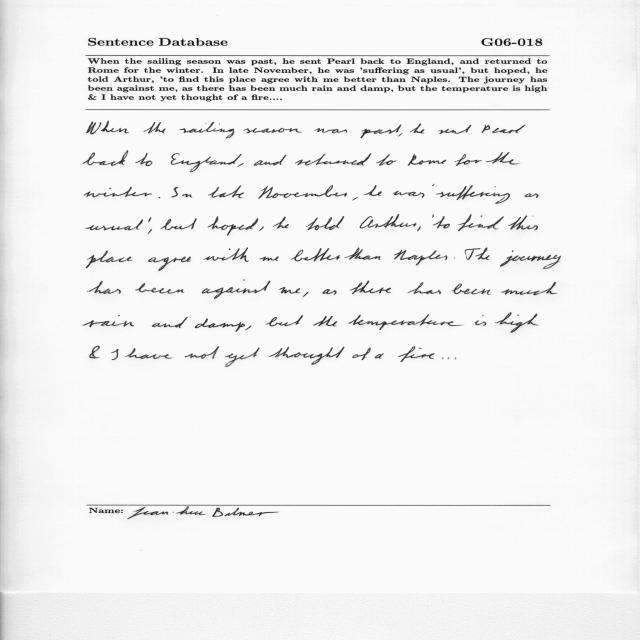word: (348, 314, 463, 330), (436, 185, 510, 204), (268, 347, 345, 365), (171, 153, 242, 172), (202, 280, 271, 299), (258, 185, 347, 199), (500, 250, 561, 269), (208, 216, 259, 236), (179, 122, 235, 139), (295, 153, 371, 165), (495, 313, 539, 333), (86, 251, 133, 268), (360, 215, 417, 229), (394, 250, 447, 265), (458, 215, 504, 231), (502, 282, 558, 295), (195, 318, 245, 332), (225, 347, 260, 367), (84, 187, 152, 197), (83, 151, 128, 166), (148, 256, 191, 271), (203, 248, 249, 262), (291, 248, 340, 261), (86, 220, 143, 231), (83, 315, 134, 327), (398, 346, 434, 362), (361, 125, 402, 139), (135, 283, 185, 294), (87, 121, 129, 134), (350, 281, 392, 294), (306, 216, 344, 230), (125, 348, 173, 359), (208, 185, 244, 198), (408, 154, 446, 166), (452, 283, 490, 295), (508, 216, 538, 231), (160, 218, 197, 230), (87, 281, 121, 294), (185, 346, 219, 359), (345, 248, 380, 260), (486, 152, 520, 164), (407, 282, 441, 294), (266, 315, 303, 326), (152, 317, 188, 328), (254, 155, 287, 166), (482, 125, 526, 133), (454, 154, 482, 166), (438, 125, 472, 134), (465, 248, 490, 260), (244, 128, 303, 133), (313, 316, 337, 327), (376, 154, 397, 166), (144, 122, 166, 133), (171, 187, 193, 198), (135, 153, 153, 166), (352, 348, 371, 360), (393, 191, 425, 198), (363, 185, 382, 196), (433, 216, 450, 228), (273, 217, 289, 229), (314, 128, 347, 133), (278, 287, 301, 294), (89, 346, 100, 359), (410, 124, 424, 134), (475, 315, 487, 326), (259, 256, 279, 261), (111, 349, 119, 360), (323, 289, 337, 295), (525, 193, 539, 198), (375, 354, 384, 359), (258, 227, 264, 232), (303, 292, 309, 297), (245, 326, 251, 331), (237, 163, 244, 167), (352, 197, 359, 201), (148, 229, 152, 234), (398, 133, 402, 137), (148, 218, 151, 223), (417, 226, 420, 231), (442, 358, 449, 360), (432, 214, 434, 218), (432, 184, 435, 186), (159, 197, 161, 199), (454, 258, 455, 259)
